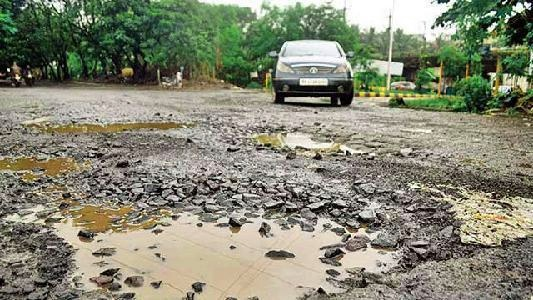pothole: (0, 173, 466, 298), (241, 122, 364, 158), (34, 118, 191, 138), (0, 148, 98, 176)
